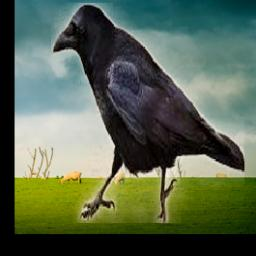Crow: (51, 3, 244, 223)
